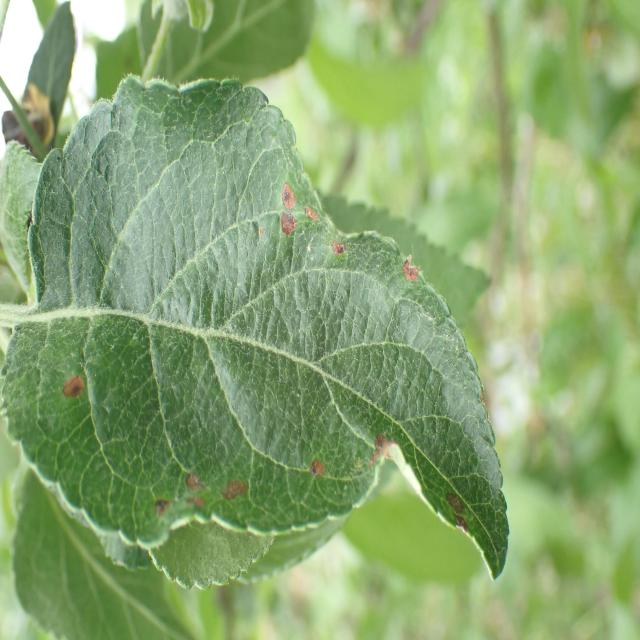Black Rot: (355, 414, 408, 480), (434, 476, 485, 542), (178, 466, 212, 521), (266, 160, 304, 208), (58, 363, 94, 407), (323, 236, 365, 270), (145, 482, 176, 524), (400, 248, 427, 295), (220, 478, 254, 514), (267, 211, 305, 242), (306, 454, 330, 490), (304, 197, 324, 233)
